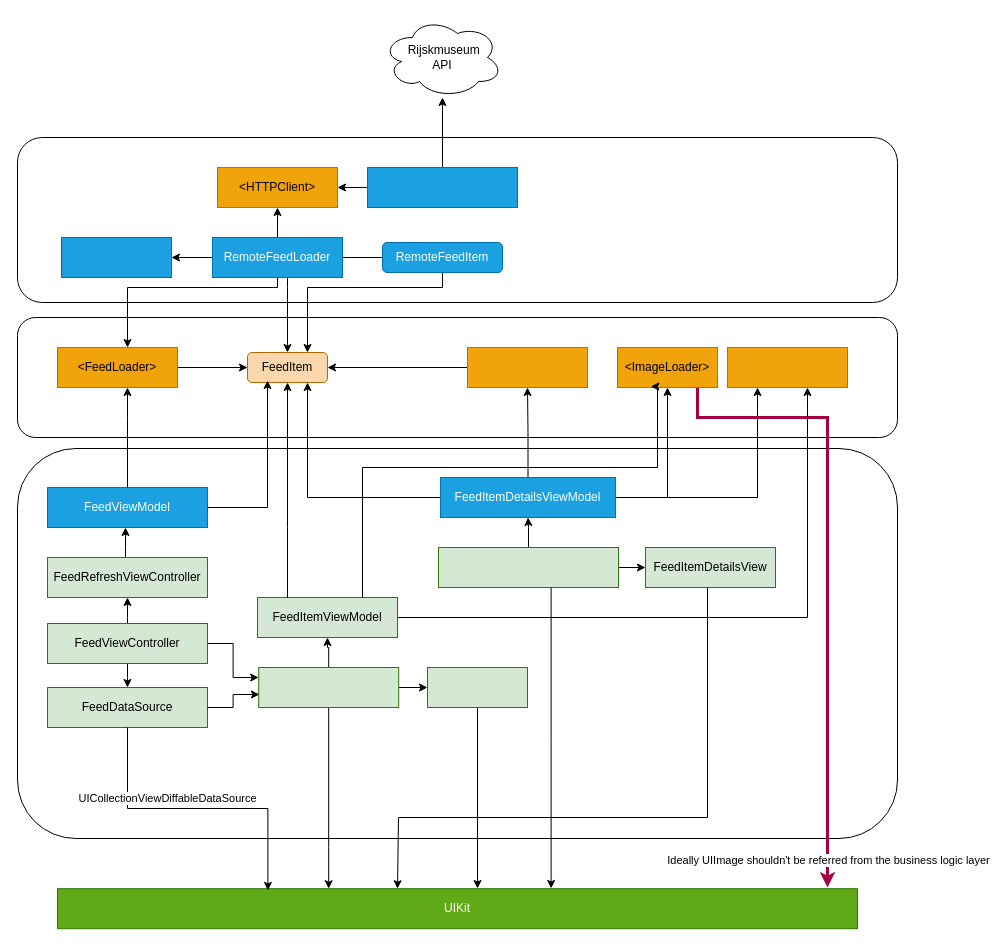
This 1007x947 diagram has some shape labels left out. The shapes that lost their labels are listed below. From the top down, each one's centre as x and y in pixels, then its label:
(x=442, y=187): URLSessionHTTPClient
(x=116, y=257): APISettings
(x=527, y=367): <FeedItemLoader>
(x=787, y=367): <ImageLoaderTask>
(x=528, y=567): FeedItemDetailsViewController
(x=328, y=687): FeedCellController
(x=477, y=687): FeedItemCell
